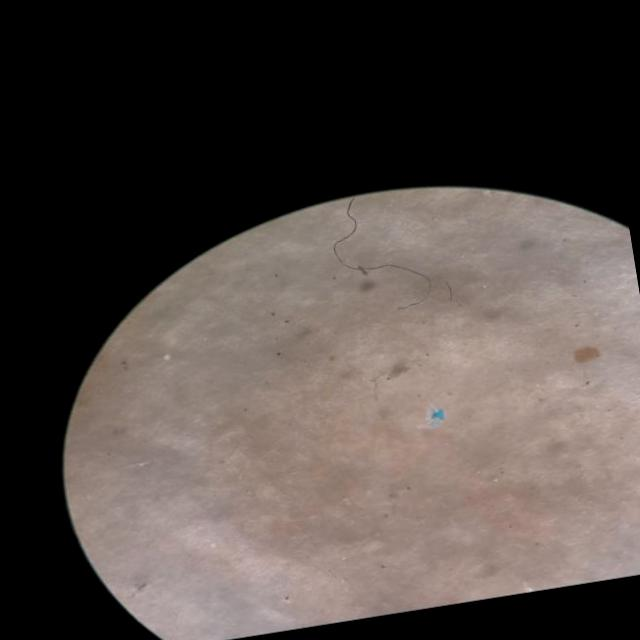fiber: (333, 198, 428, 282)
film: (429, 408, 445, 427)
fragment: (574, 346, 600, 363)
pellet: (164, 353, 170, 360)
